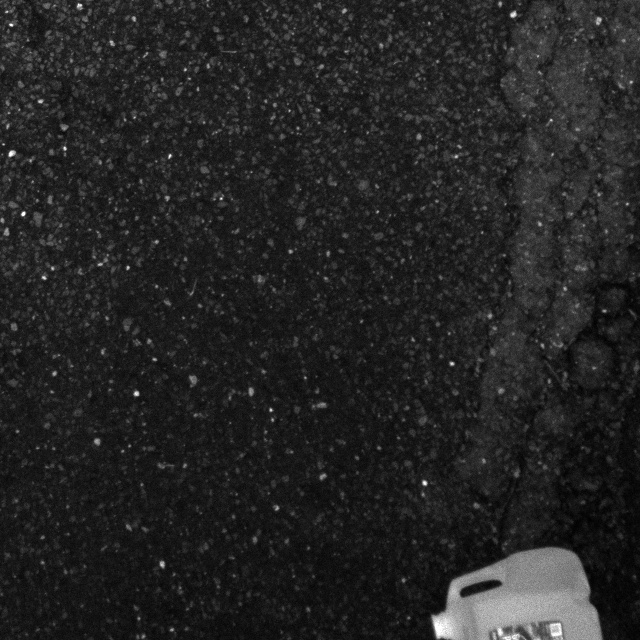can: (412, 543, 607, 639)
